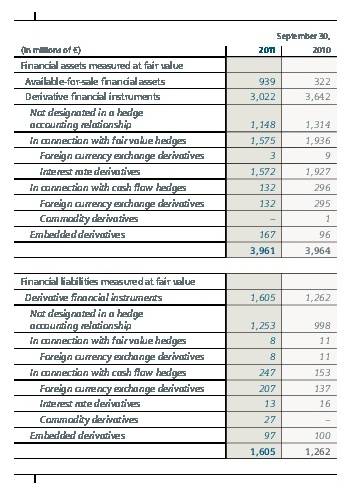table: (0, 0, 351, 493)
